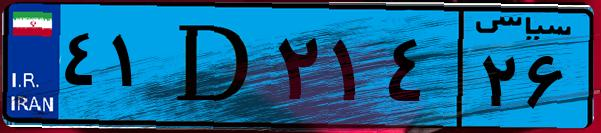1: (330, 28, 385, 110), (110, 28, 158, 98)
2: (270, 28, 330, 110), (475, 38, 525, 113)
4: (385, 28, 445, 110), (57, 26, 110, 100)
6: (525, 38, 570, 115)
D: (158, 12, 270, 120)
